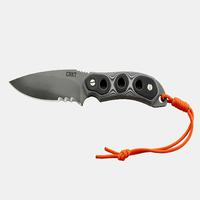knife: (5, 58, 171, 129)
